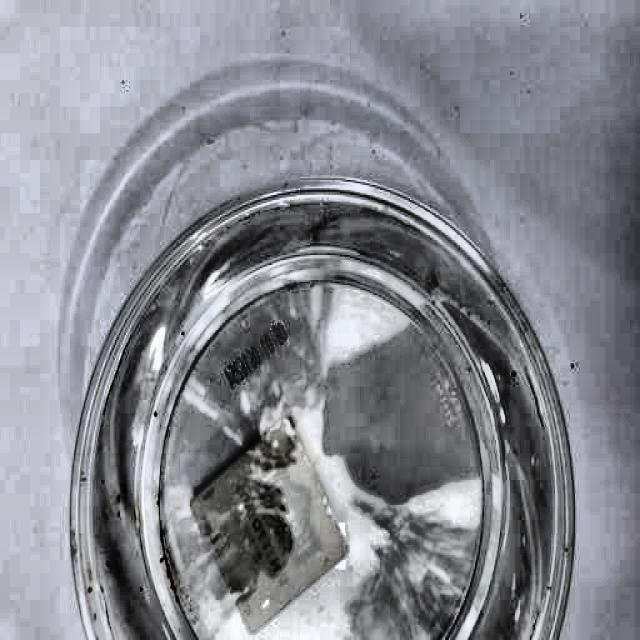plastic: (59, 174, 586, 640)
